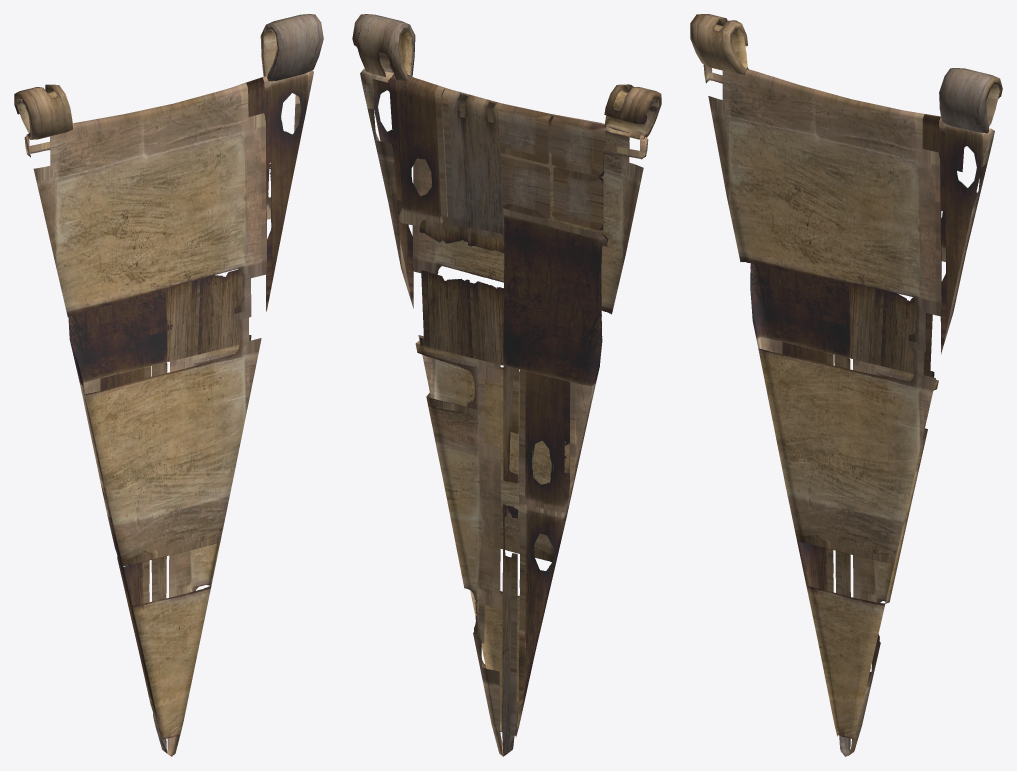
3 renders of one model, left to right at view 1: azimuth 30°, elevation 25°; view 2: azimuth 150°, elevation 25°; view 3: azimuth 330°, elevation 25°, orthographic.
Parts seen in each view (by area): view 1: SM_Side_table_01v1_LOD0; view 2: SM_Side_table_01v1_LOD0; view 3: SM_Side_table_01v1_LOD0.
Part boxes in pixels (box(x1,y1,x2,y2)): SM_Side_table_01v1_LOD0: box(14, 14, 323, 756); SM_Side_table_01v1_LOD0: box(352, 14, 661, 756); SM_Side_table_01v1_LOD0: box(690, 14, 1002, 756).
Size of the model in its own units: 0.8658 by 1.98 by 0.1067.
